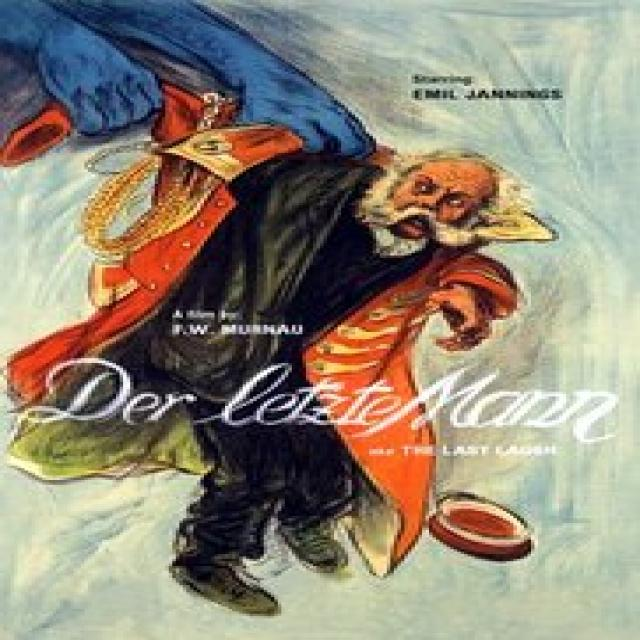movie-judul: (27, 347, 640, 449)
picture: (96, 104, 568, 611)
